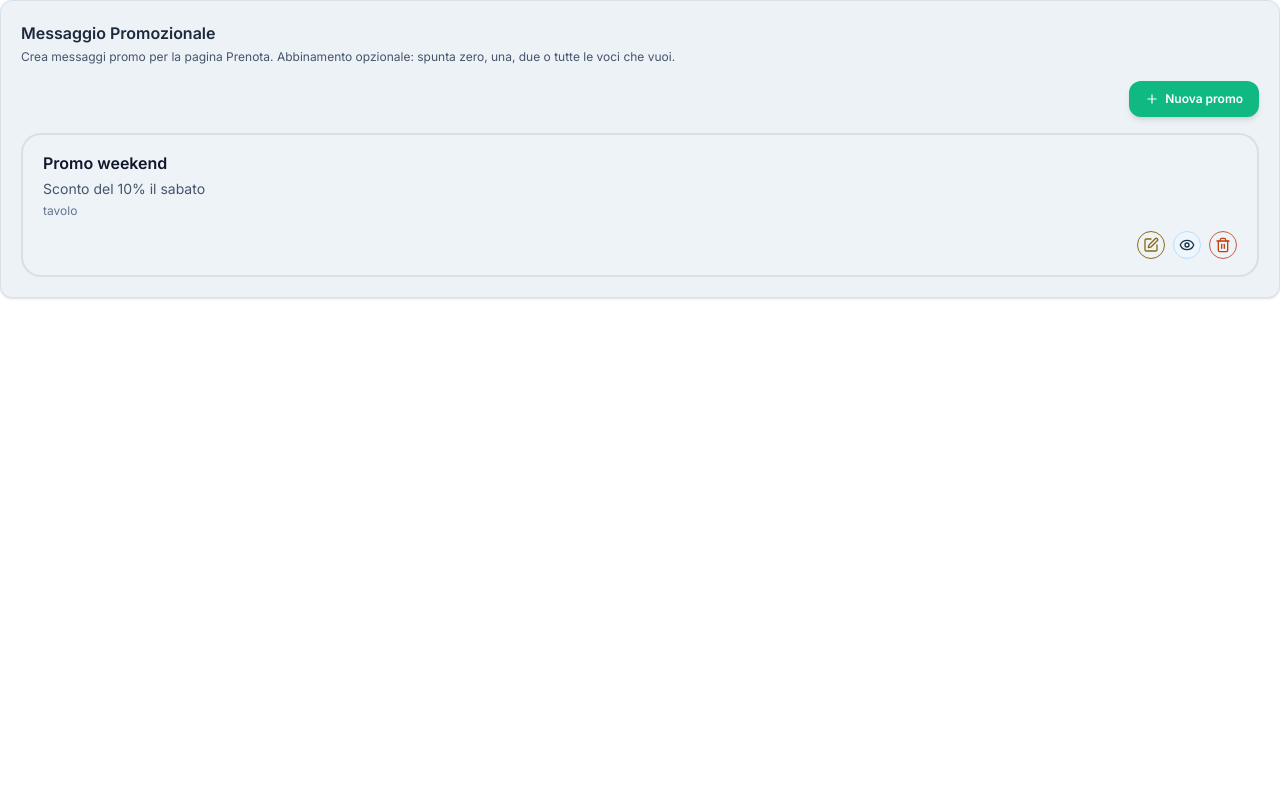
Test case: settings-promo delete copy › la modale delete parla di footer, non di salvataggio autonomo, e l’elimina è solo locale
Check: the text "Promo weekend" is shown, box x1=43 y1=153 x2=167 y2=173
Click the button named "elimina promo".
click(1223, 245)  # box x1=1209 y1=231 x2=1237 y2=259
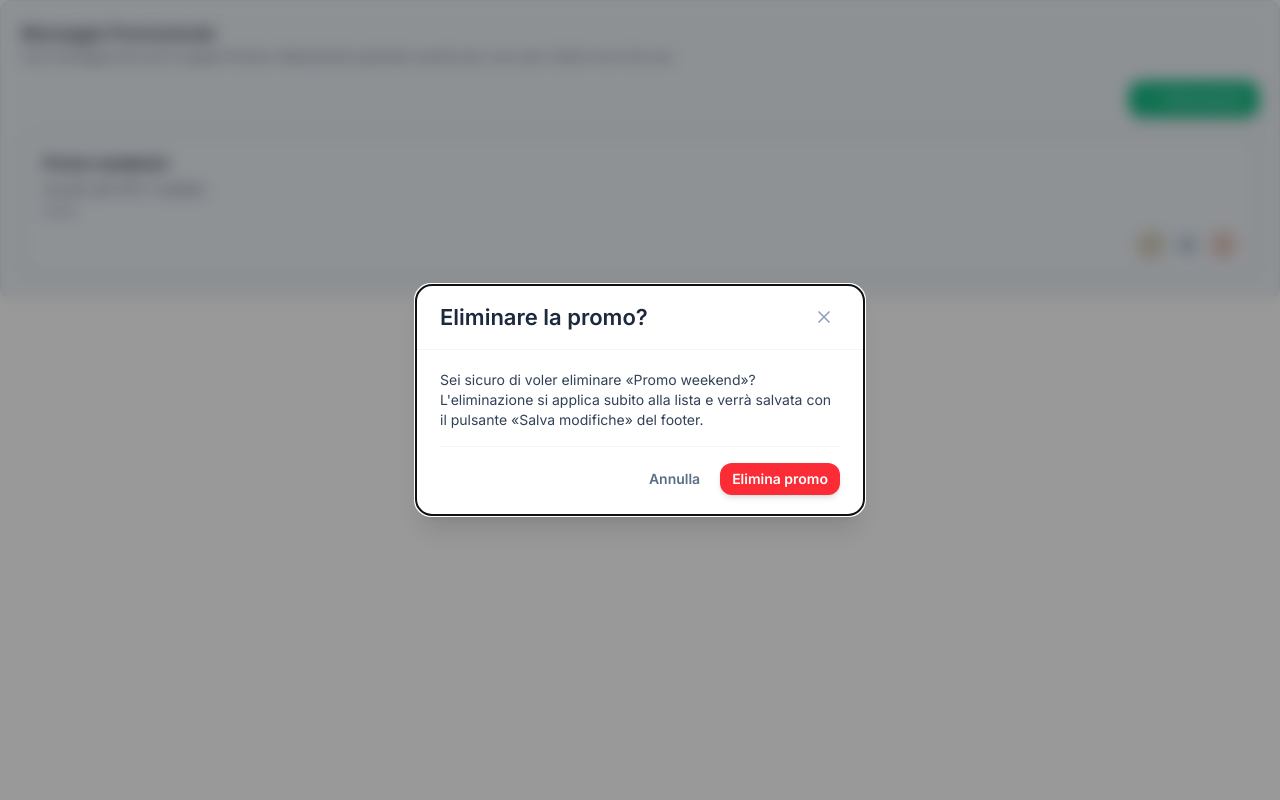
Click the button "Elimina promo".
click(780, 479)  # box x1=720 y1=463 x2=840 y2=495
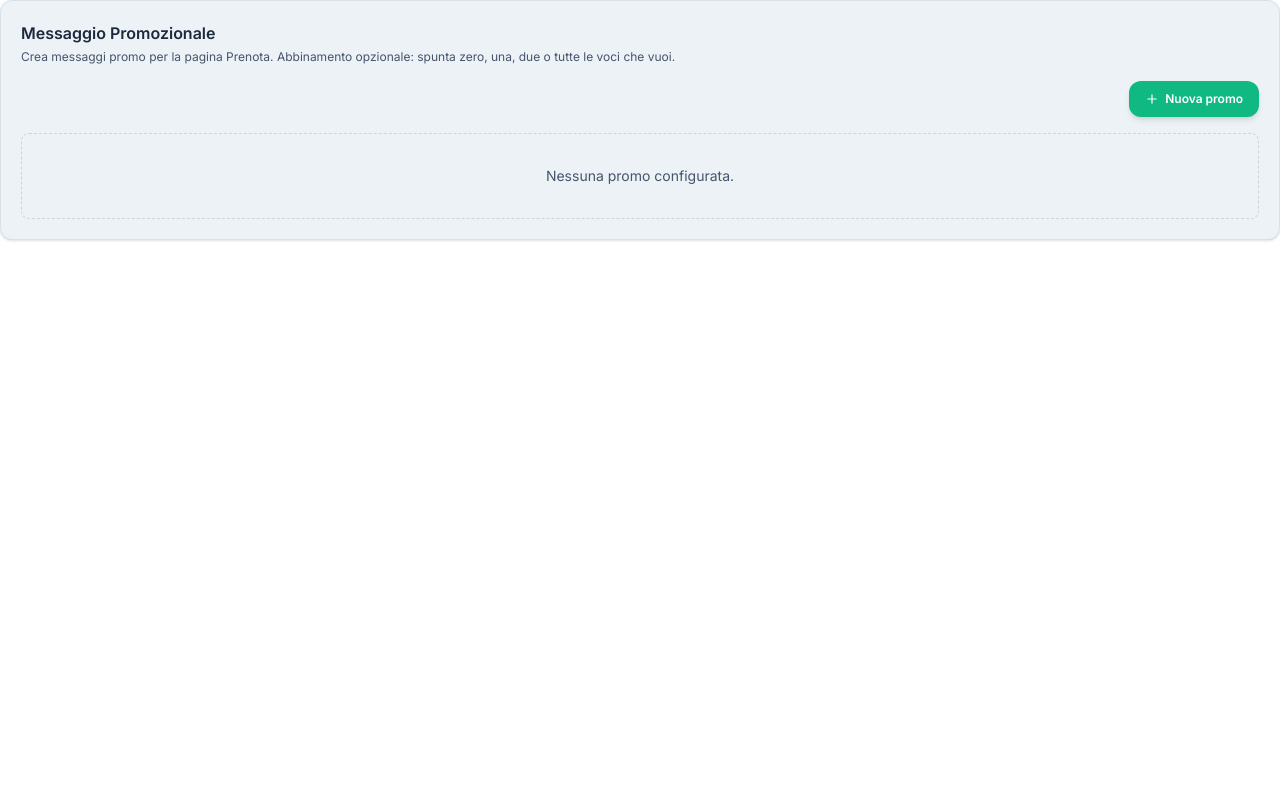
Check: the text "Promo weekend" is gone
